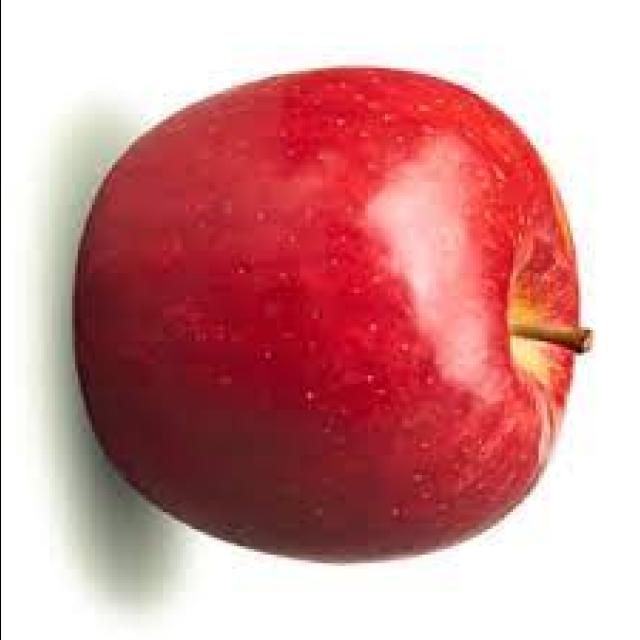apple: (64, 61, 592, 568)
